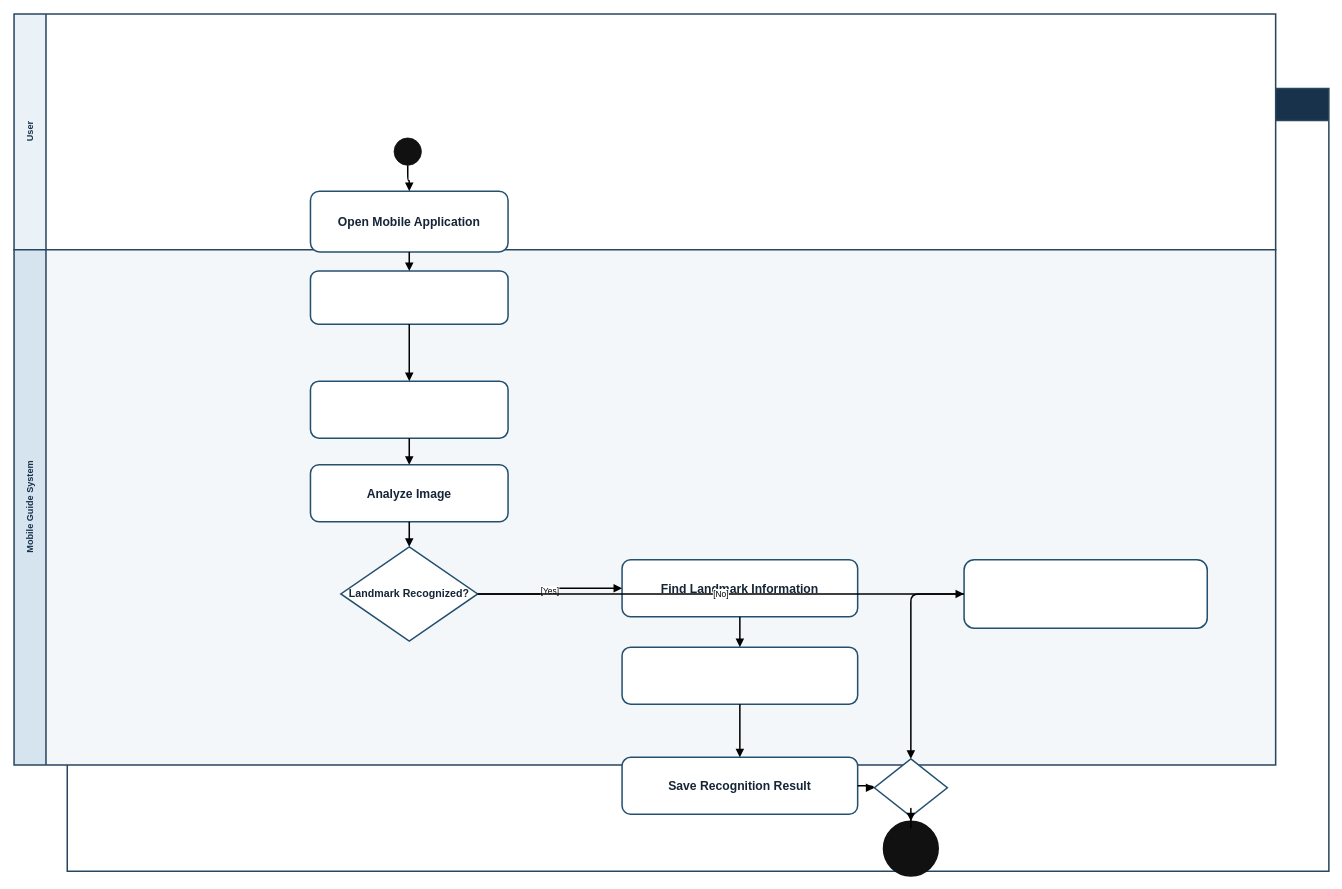
Image size: 1342x889. Some labels were removed from this diagram. Each missing label, with the centre of its shape:
Display Landmark Information: [739,675]
Display Recognition Error: [1085,594]
Take a Photo of Landmark: [408,297]
Upload Image: [408,409]
